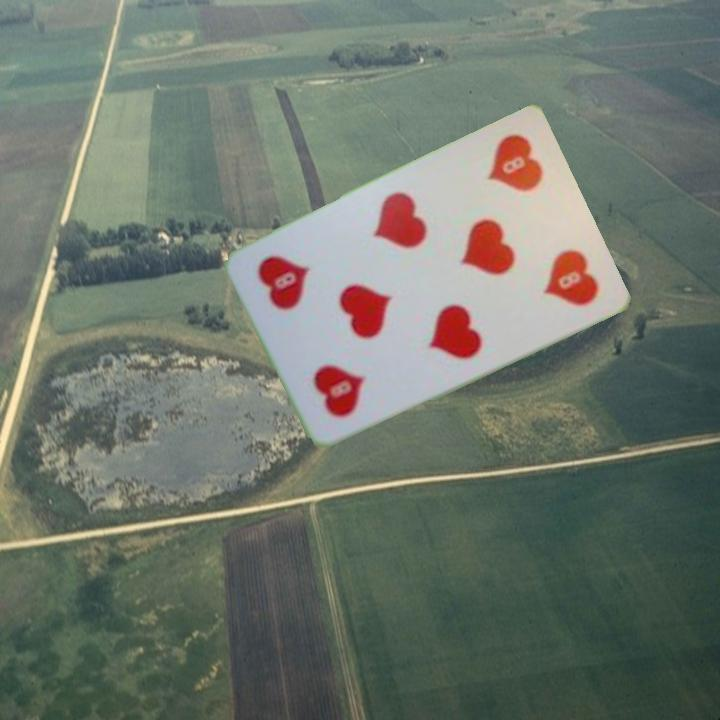h_8.png: (280, 309, 398, 434), (453, 123, 571, 248)
